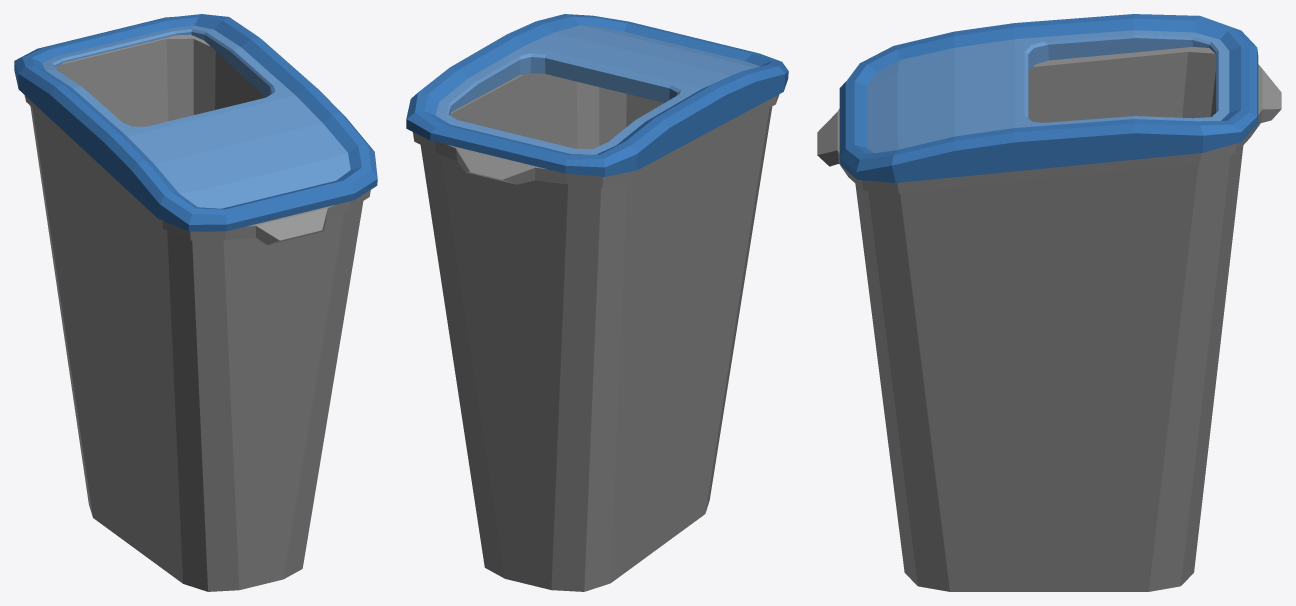
Rendered from Int_Bin03_1.fbx.
3 renders of one model, left to right at view 1: azimuth 30°, elevation 25°; view 2: azimuth 150°, elevation 25°; view 3: azimuth 270°, elevation 25°, orthographic. The views are drawn at different scales.
Visible parts, largest first — view 1: Int_Bin03_1; view 2: Int_Bin03_1; view 3: Int_Bin03_1.
Part boxes in pixels (<box>): Int_Bin03_1: <box>14,14,377,591</box>; Int_Bin03_1: <box>406,14,788,591</box>; Int_Bin03_1: <box>817,14,1281,591</box>.
Size of what is drawn, in the model's own units: 54.98 by 93.33 by 109.
